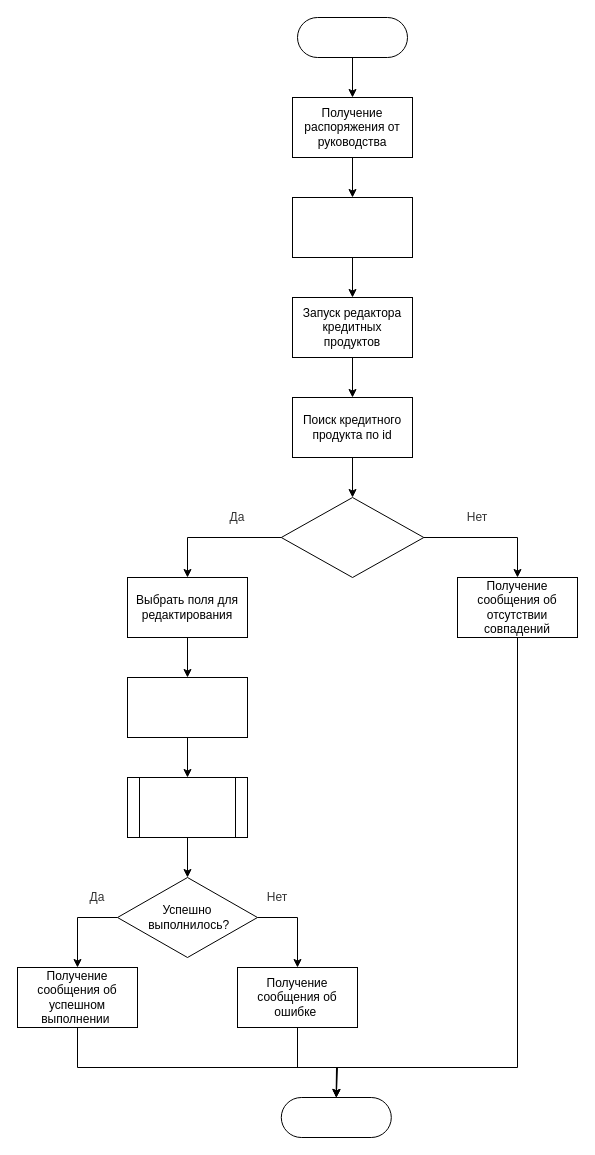
Image size: 595x1155. Some labels were removed from this diagram. Here are the shapes that lost their labels. From the top down, the centre of each, then its label:
At (352,37): "Начало".
At (352,227): "Авторизация в роли менеджера".
At (352,537): "Есть совпадения?".
At (187,707): "Внесение нужных данных".
At (187,807): "Отправка запроса на изменение записи в бд".
At (335,1117): "Конец".
